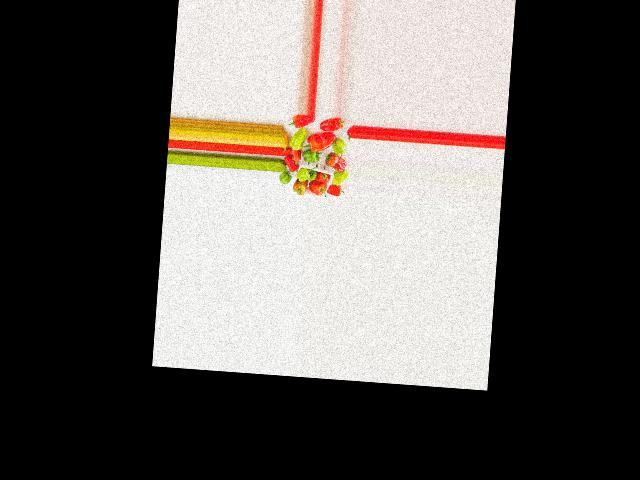bell_pepper: (287, 113, 311, 130)
